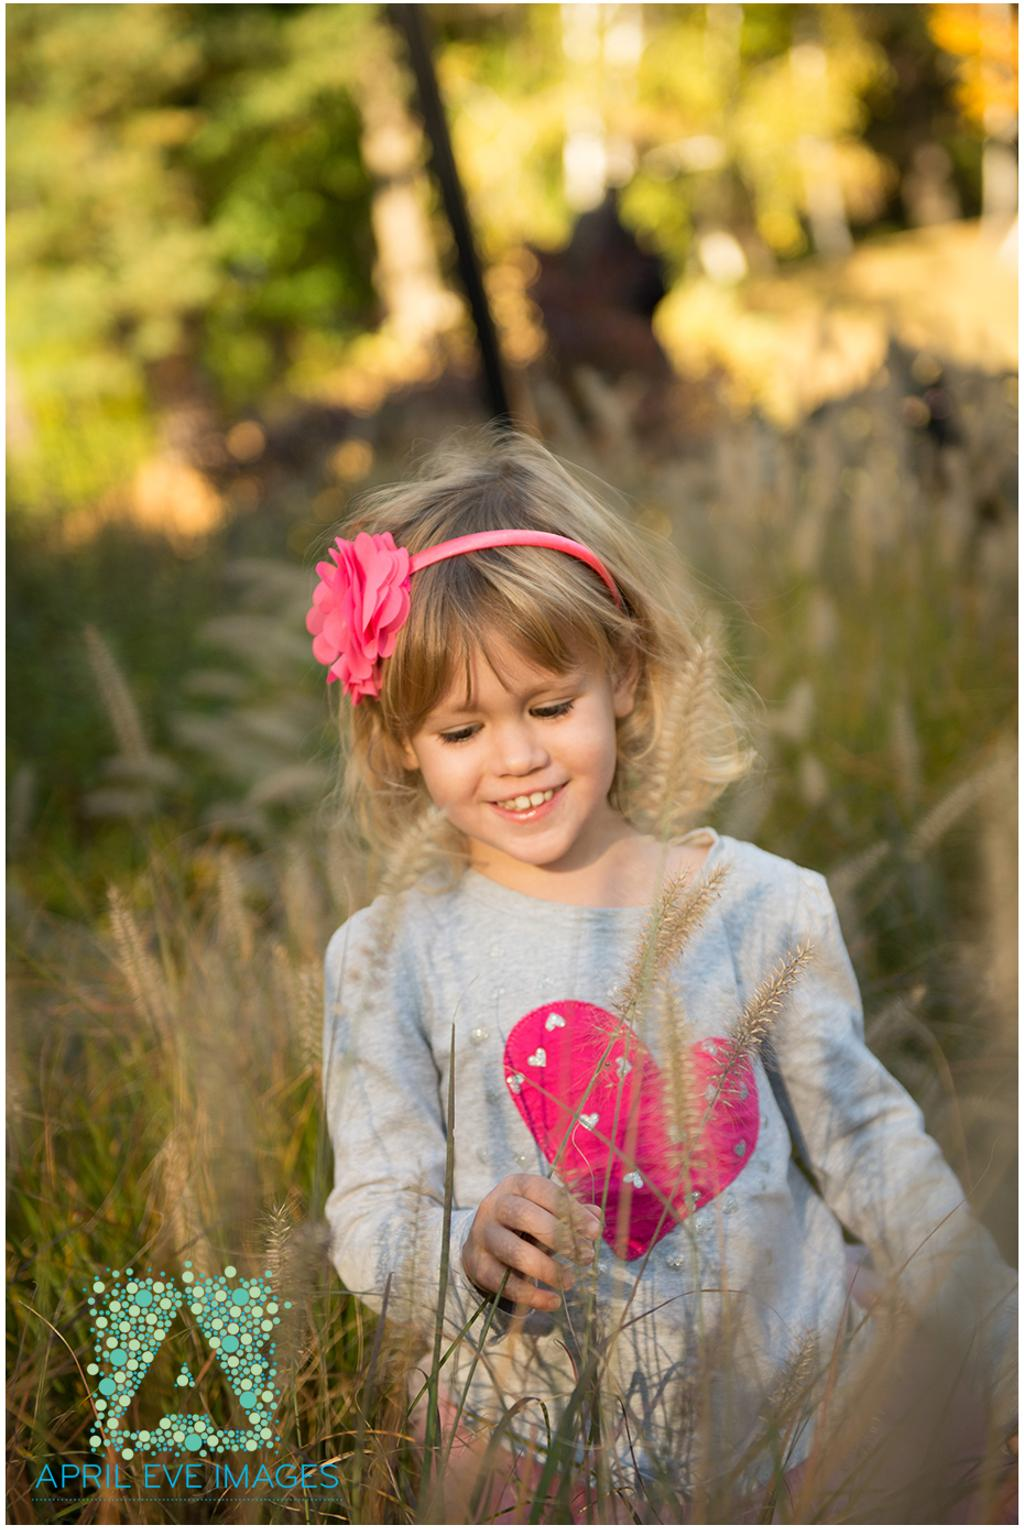face: (415, 603, 609, 863)
